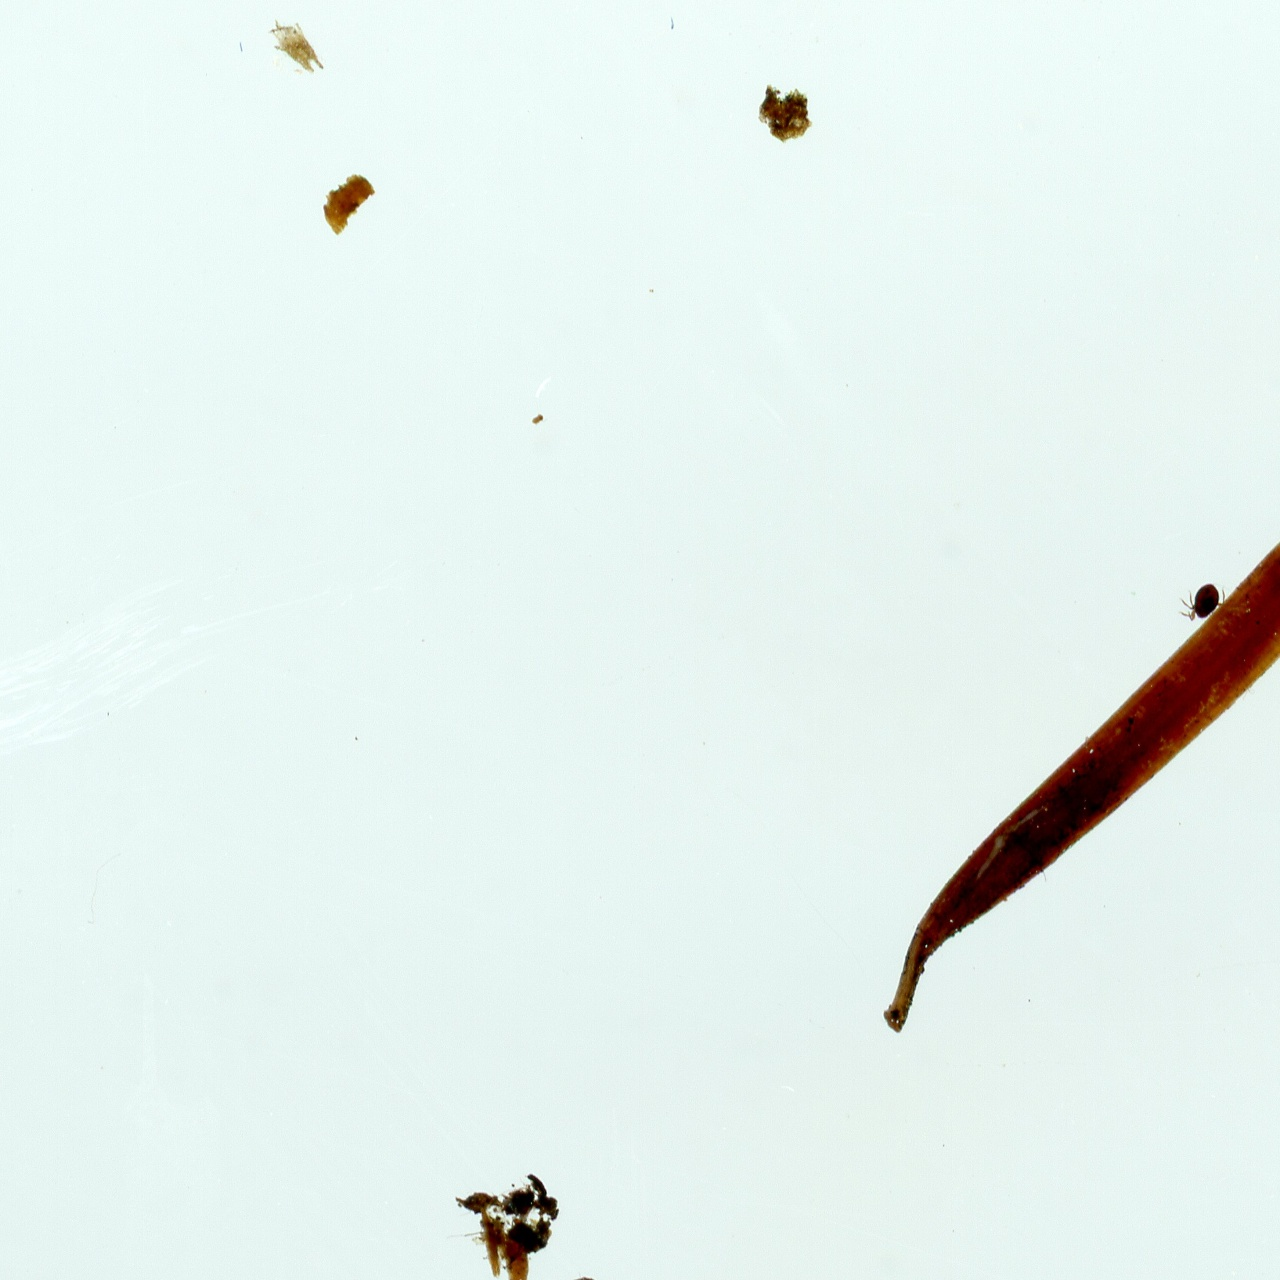arthropod: (1177, 579, 1226, 628)
